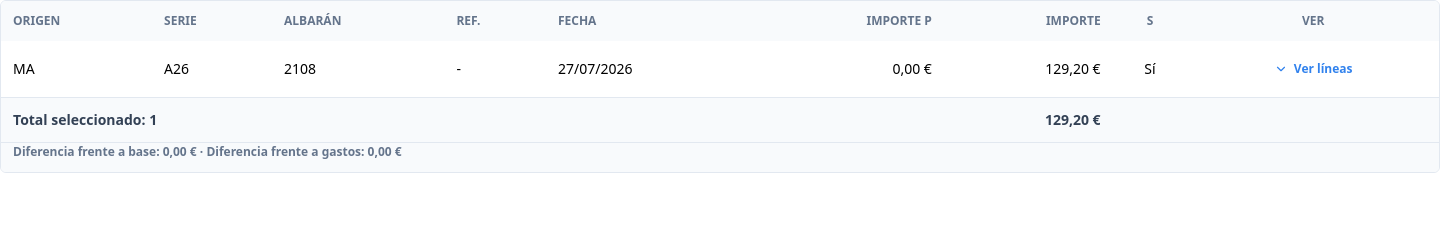
Test: FacturaPunteosTable › carga MA de forma perezosa, ignora líneas persistidas y cachea al reabrir
The image size is (1440, 249).
Click the button "Ver líneas" at (1313, 69), box [1266,53,1360,85]
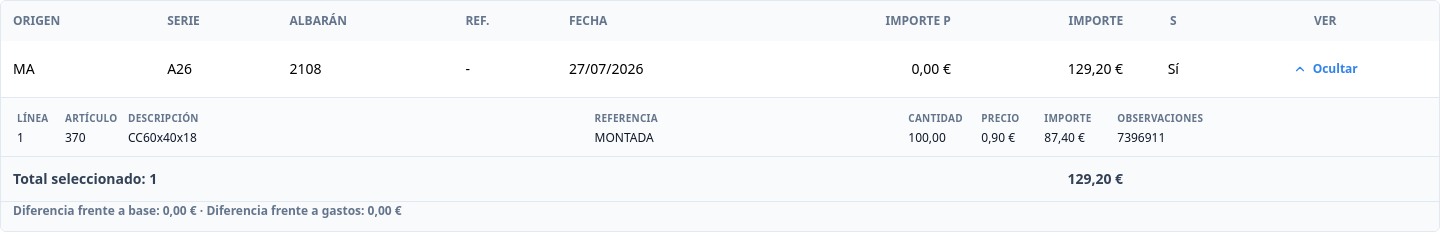
expect the text "CC60x40x18" is shown: met, box [128,129,197,146]
expect the text "MONTADA" is shown: met, box [595,129,654,146]
Click the button "Ocultar" at (1325, 69), box [1285,53,1366,85]
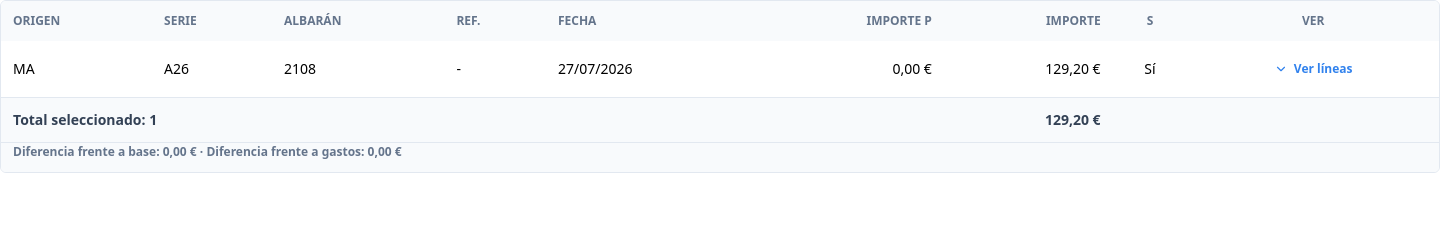
Click the button "Ver líneas" at (1313, 69), box [1266,53,1360,85]
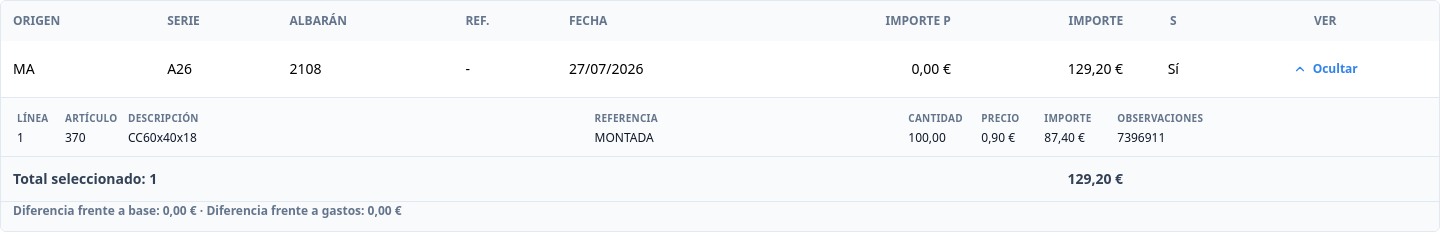
expect the text "CC60x40x18" is shown: met, box [128,129,197,146]
